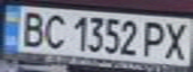1: (66, 12, 90, 52)
2: (118, 17, 142, 56)
3: (84, 15, 106, 53)
5: (103, 16, 124, 55)
B: (15, 8, 48, 48)
C: (39, 11, 69, 50)
P: (139, 18, 172, 58)
X: (157, 19, 193, 62)
